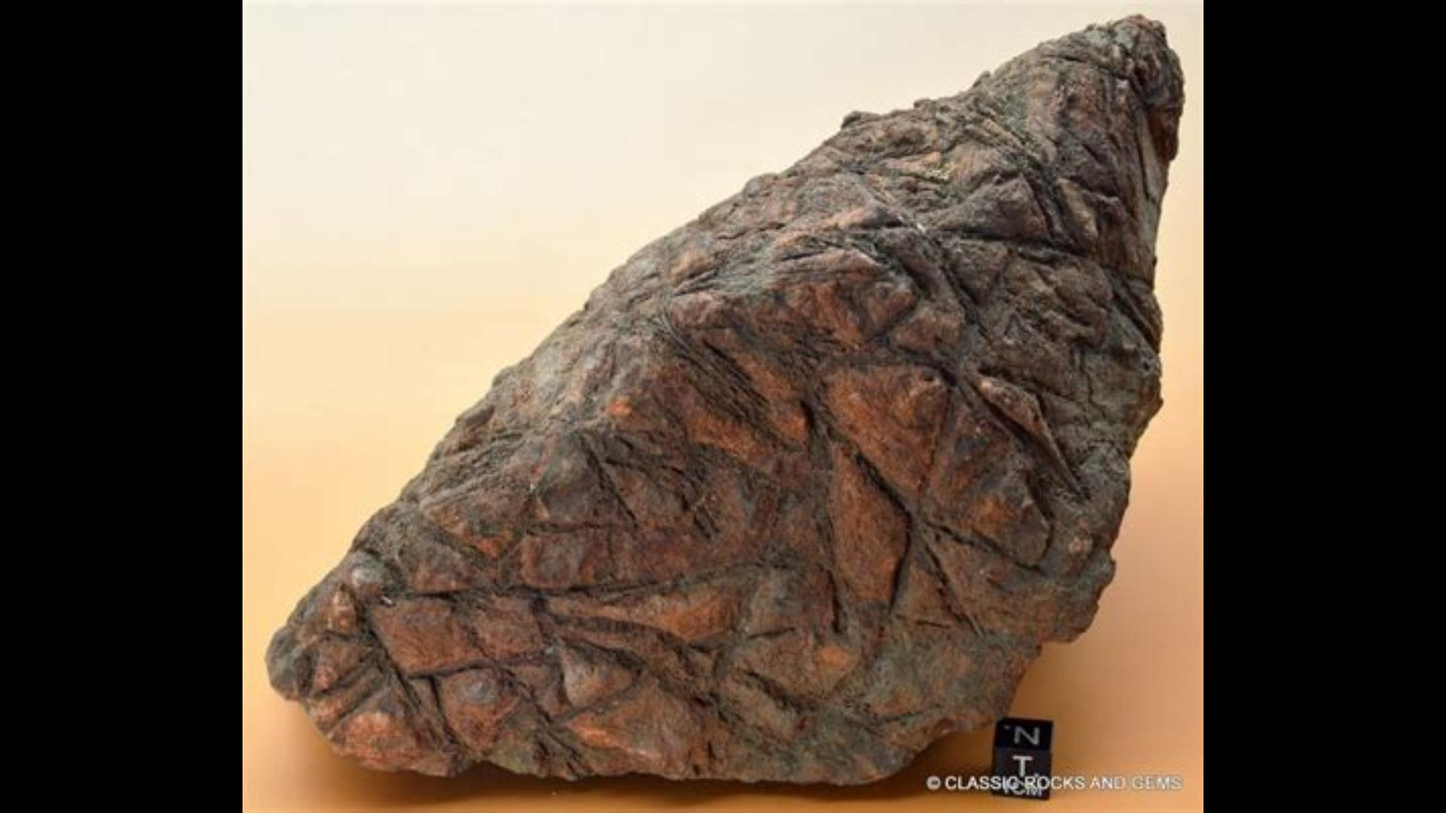rock: (275, 24, 1180, 783)
